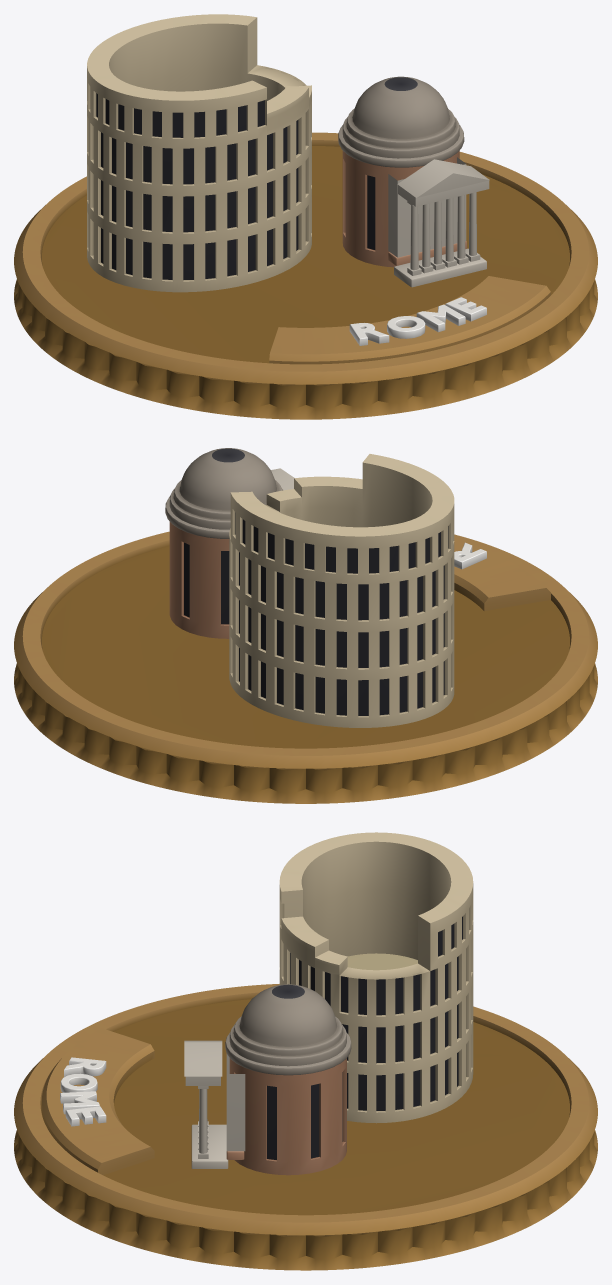
File: city_bundle_rome.glb
3 views of the same model, one above another, from view 1: azimuth 30°, elevation 25°; view 2: azimuth 150°, elevation 25°; view 3: azimuth 270°, elevation 25° (orthographic).
Parts seen in each view (by area): view 1: Plinth_Body, Colosseum_Travertine, Pantheon_Stone, Plinth_Nameplate, Pantheon_Portico, Plinth_Text_ROME; view 2: Plinth_Body, Colosseum_Travertine, Pantheon_Stone, Plinth_Nameplate, Plinth_Text_ROME; view 3: Plinth_Body, Colosseum_Travertine, Pantheon_Stone, Plinth_Nameplate, Pantheon_Portico, Plinth_Text_ROME.
Part boxes in pixels (x1,y1,x2,y2): Plinth_Body: (14,132,597,419); Colosseum_Travertine: (87,14,311,292); Pantheon_Stone: (338,76,486,287); Plinth_Nameplate: (269,276,550,364); Pantheon_Portico: (388,157,489,275); Plinth_Text_ROME: (349,297,486,345); Plinth_Body: (14,531,597,803); Colosseum_Travertine: (229,454,454,727); Pantheon_Stone: (165,448,283,638); Plinth_Nameplate: (454,539,550,611); Plinth_Text_ROME: (454,542,486,569); Plinth_Body: (14,984,597,1270); Colosseum_Travertine: (279,832,473,1123); Pantheon_Stone: (191,984,351,1175); Plinth_Nameplate: (42,1028,154,1174); Pantheon_Portico: (184,1040,245,1158); Plinth_Text_ROME: (60,1057,106,1126).
Bounding box in the file's own units: 1.99 × 0.88 × 1.99.
